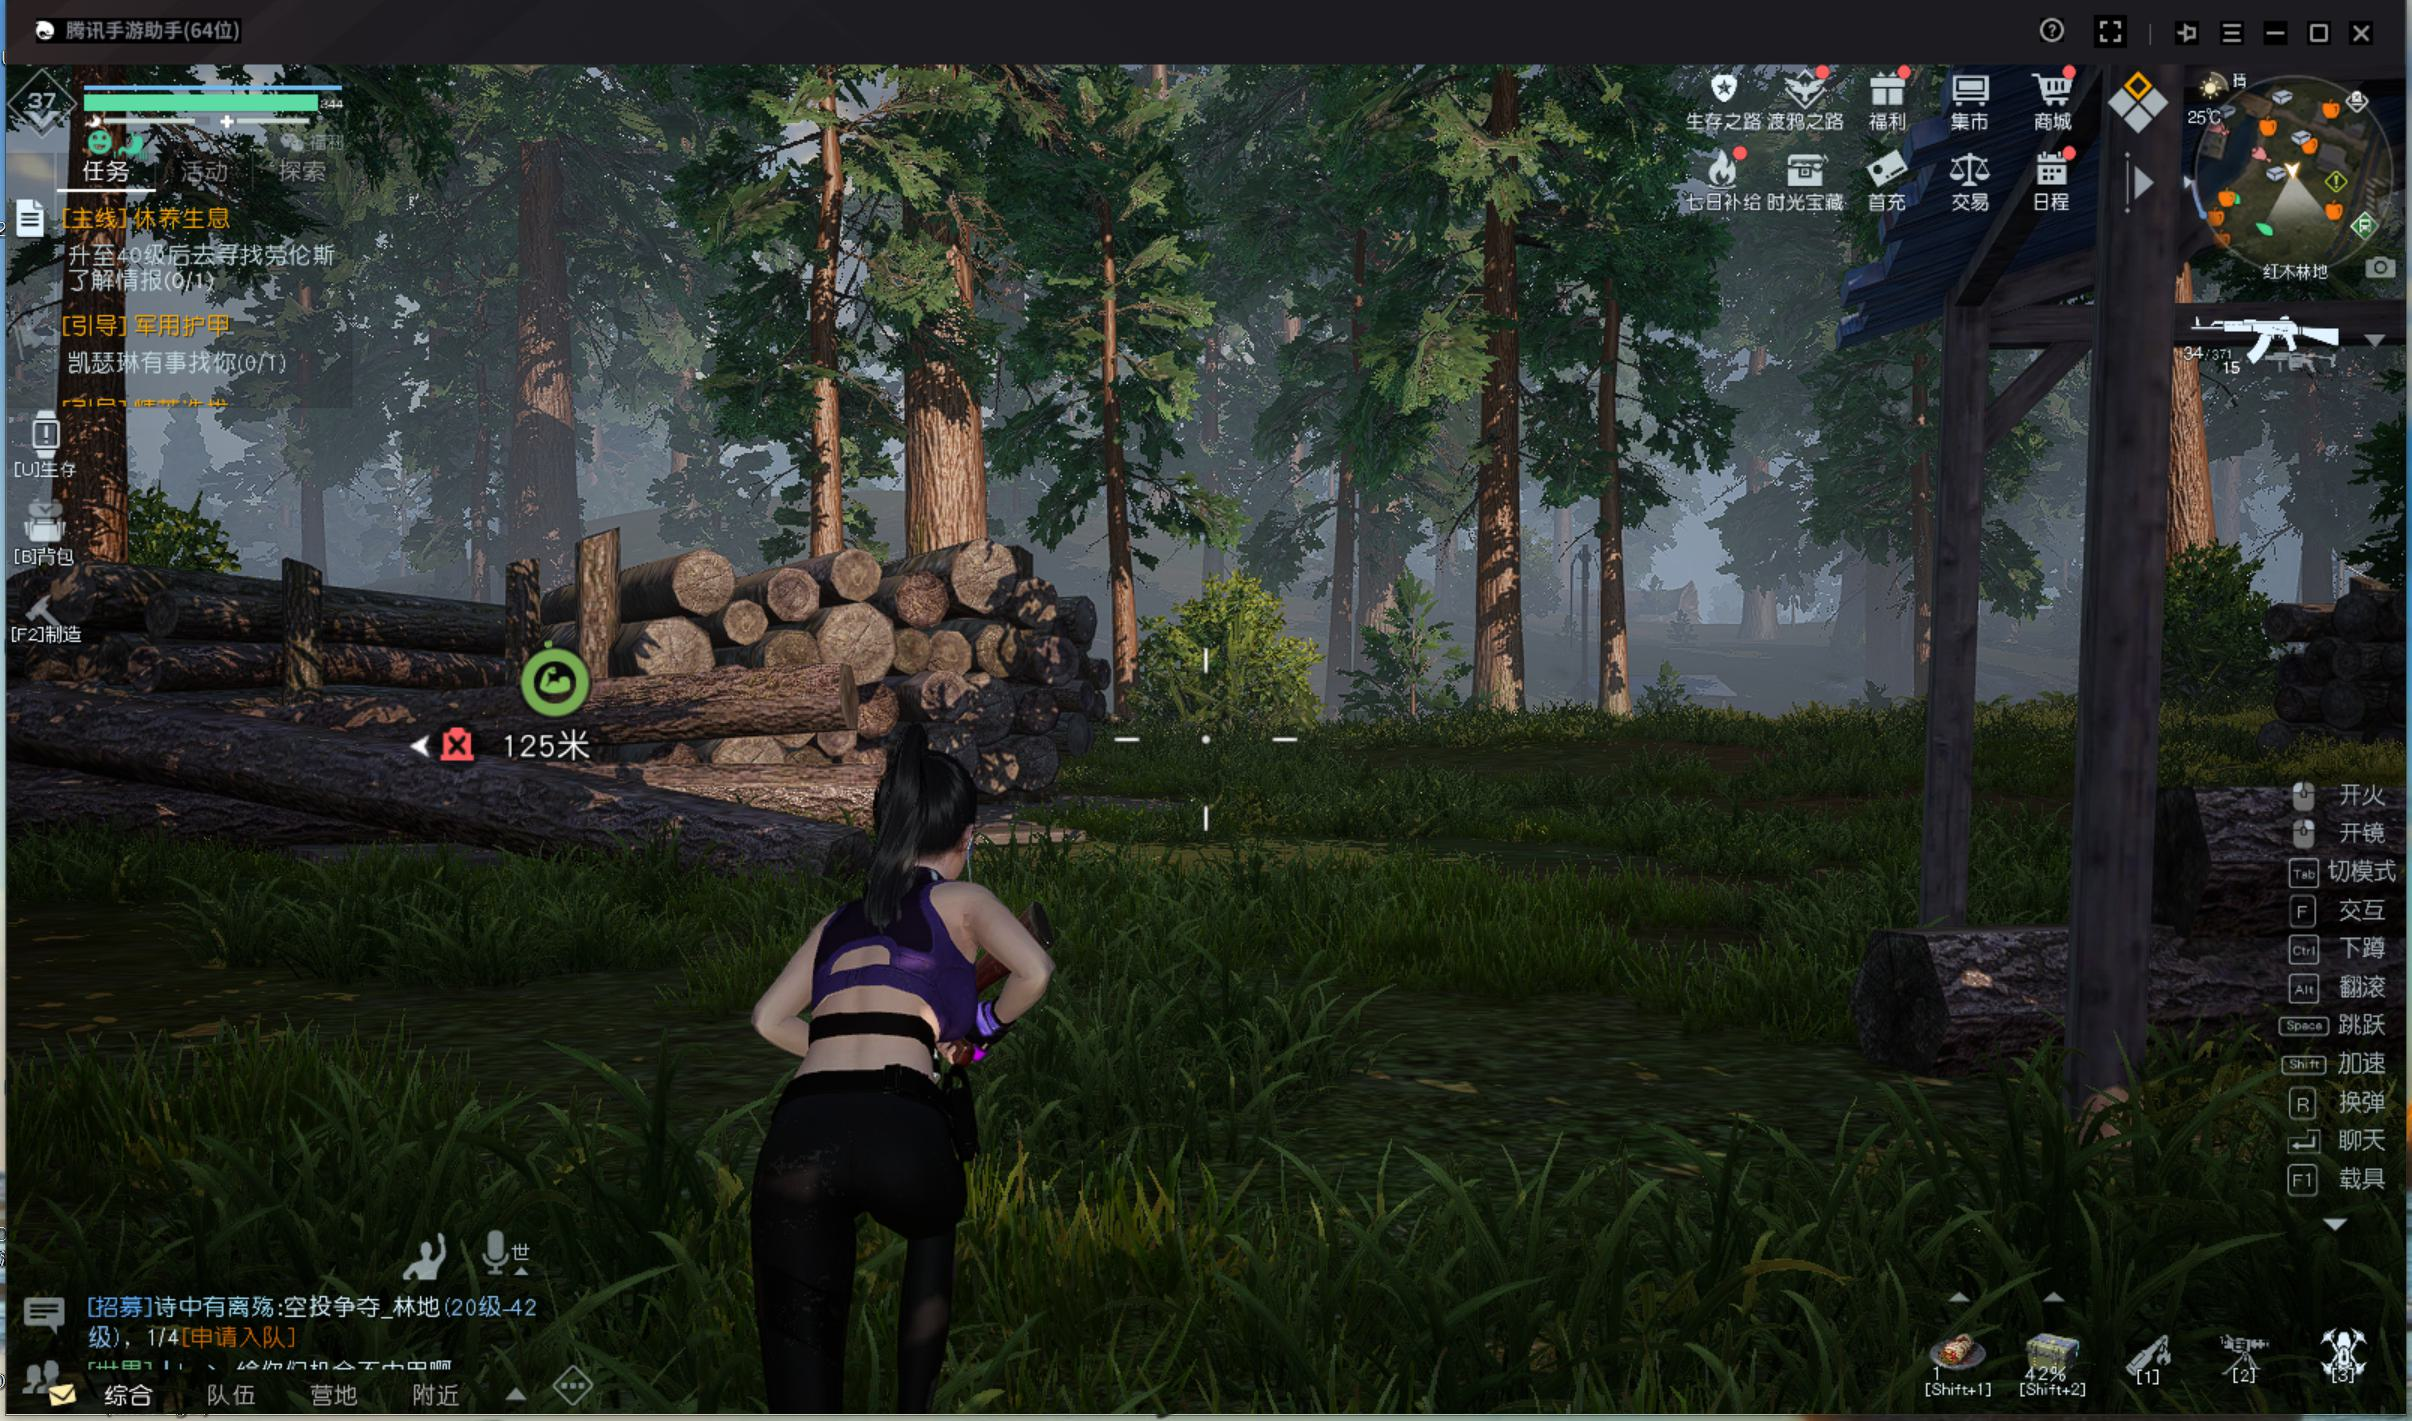tree: (46, 113, 151, 623), (876, 277, 996, 555), (501, 242, 585, 619), (1081, 323, 1154, 753), (1466, 328, 1536, 729), (797, 259, 868, 584), (1588, 348, 1637, 739), (1318, 501, 1346, 744)
